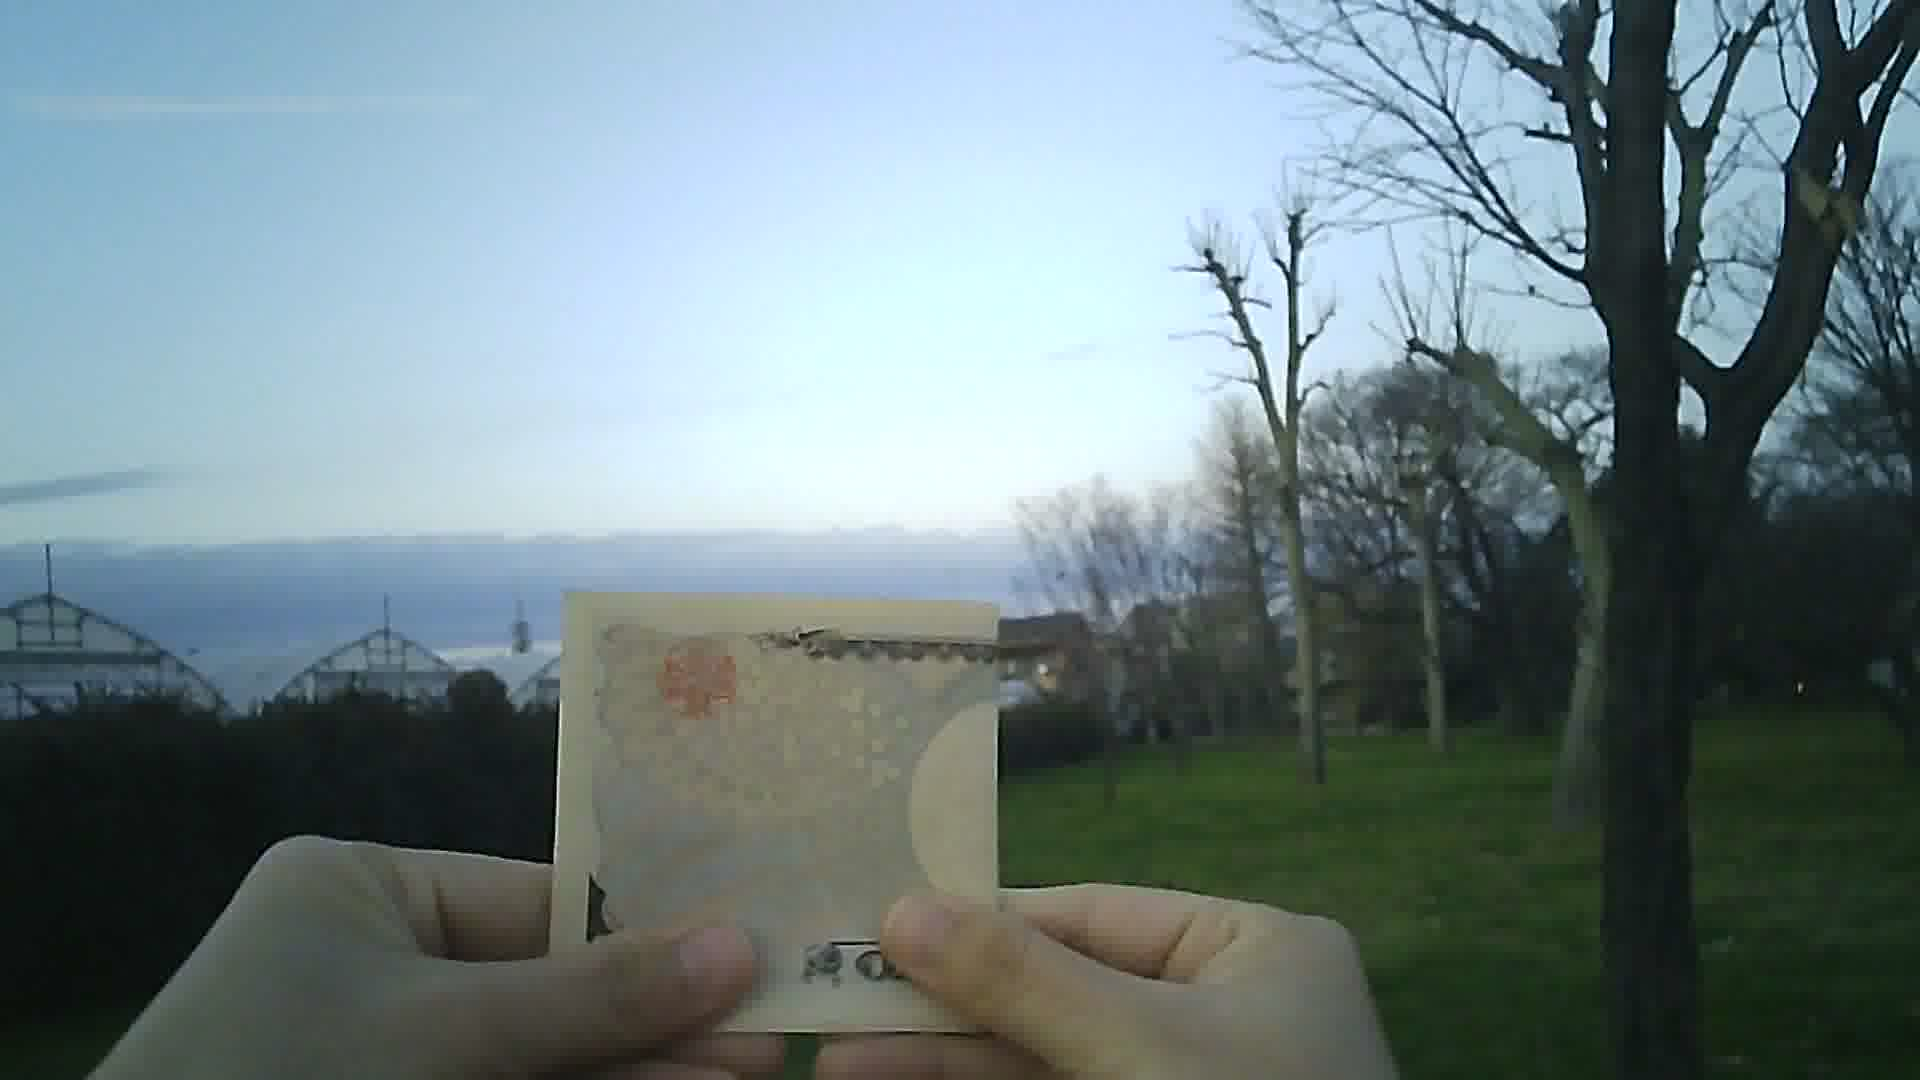10,000 Yen: (550, 570, 1014, 996)
